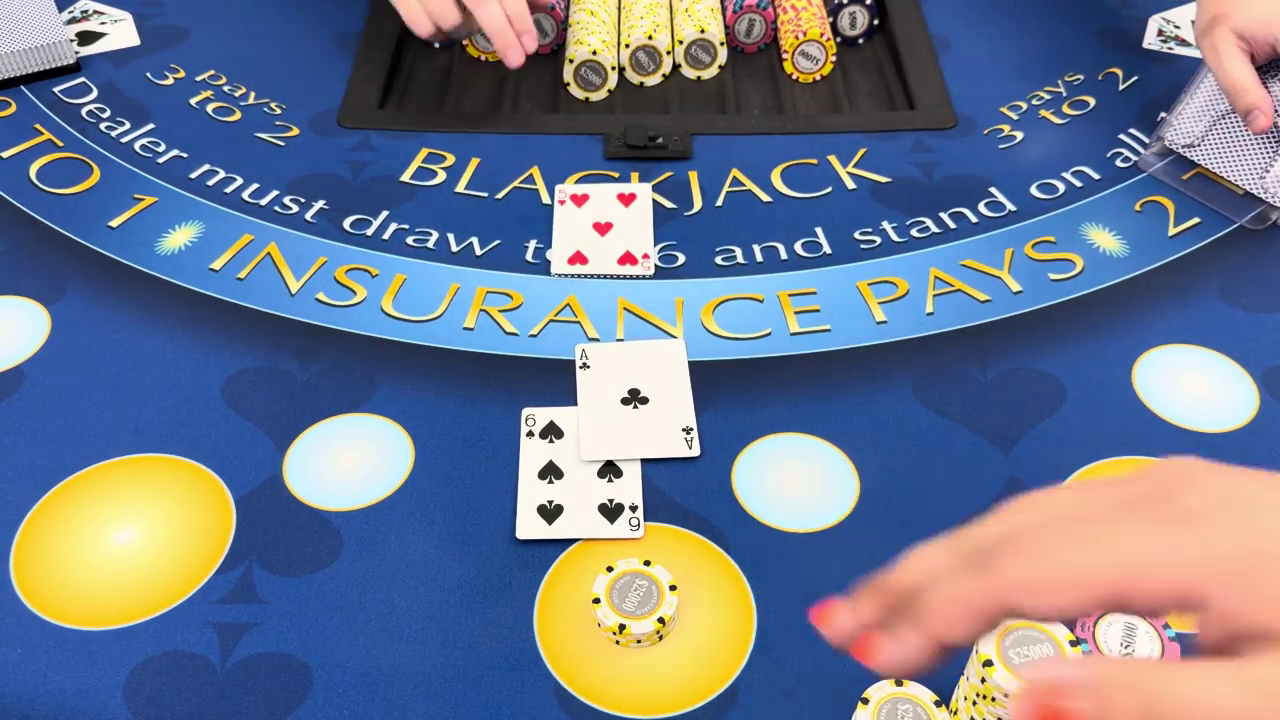5H: (639, 250, 654, 274), (555, 186, 569, 208)
6S: (622, 498, 643, 537), (522, 411, 539, 444)
AC: (675, 420, 699, 456), (577, 346, 593, 372)
